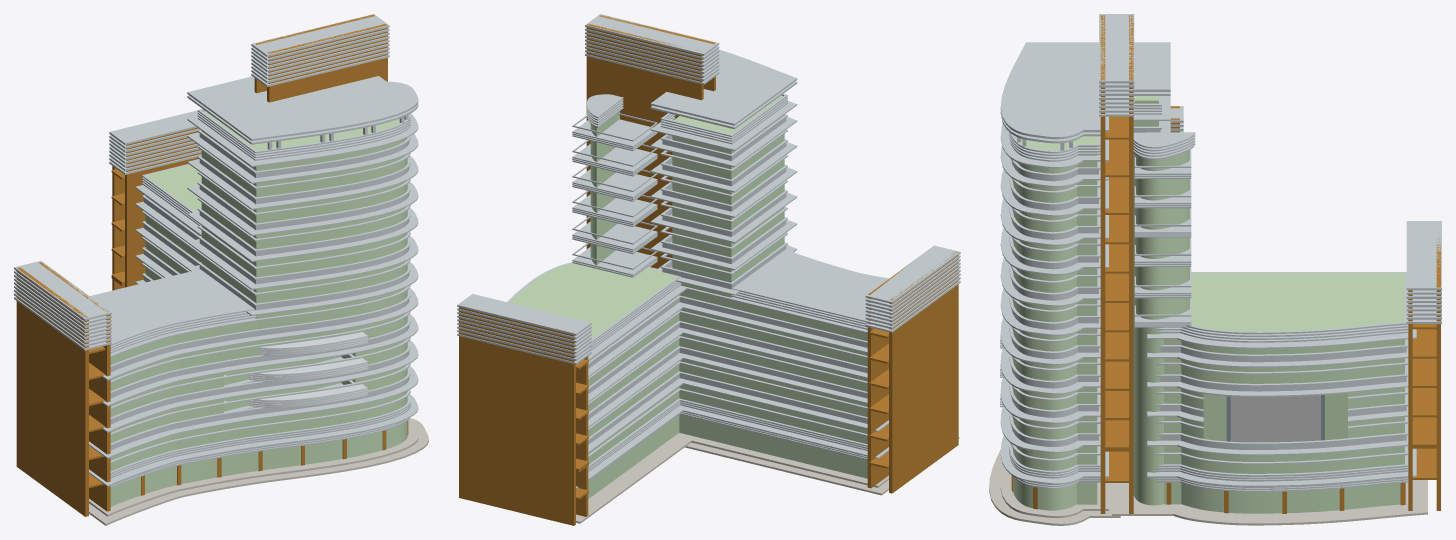
3 views of the same model, side by side, from view 1: azimuth 30°, elevation 25°; view 2: azimuth 150°, elevation 25°; view 3: azimuth 270°, elevation 25° (orthographic). The views are drawn at different scales.
Parts seen in each view (by area): view 1: Shape39, Rectangle250, Shape36, Shape06, Line81, Rectangle02, Rectangle274, road, Shape26, Line18, Line52, Rectangle249 (+56 smaller); view 2: Shape39, Rectangle274, Rectangle250, Rectangle02, Shape06, Line81, Shape36, Line34, Rectangle288, Line74, Rectangle271, Rectangle249 (+38 smaller); view 3: Shape39, Shape36, Rectangle02, Line74, Rectangle09, Line81, Line34, Rectangle288, Rectangle249, Rectangle274, Line40, Line57 (+53 smaller).
Part boxes in pixels (x1,y1,x2,y2): Shape39: (110,111,407,506); Rectangle250: (16,262,110,516); Shape36: (187,76,418,140); Shape06: (90,269,255,345); Line81: (89,337,418,458); Rectangle02: (254,14,387,102); Rectangle274: (112,127,201,290); road: (89,418,428,525); Shape26: (89,422,418,516); Line18: (102,288,418,380); Line52: (89,394,418,486); Rectangle249: (251,14,389,57); Shape39: (509,95,867,498); Rectangle274: (459,304,588,525); Rectangle250: (867,251,958,493); Rectangle02: (586,15,715,268); Shape06: (732,249,888,321); Line81: (679,336,888,431); Shape36: (650,49,797,125); Line34: (588,336,680,444); Rectangle288: (457,294,591,335); Line74: (576,433,695,523); Rectangle271: (865,245,960,303); Rectangle249: (585,14,719,55); Shape39: (1012,96,1404,513); Shape36: (1000,42,1170,139); Rectangle02: (1100,15,1133,513); Line74: (1112,478,1427,525); Rectangle09: (1230,395,1320,442); Line81: (1000,378,1100,452); Line34: (1156,387,1407,446); Rectangle288: (1406,221,1441,290); Rectangle249: (1099,14,1134,83); Rectangle274: (1408,237,1440,510); Line40: (1147,324,1416,348); Line57: (1147,446,1416,486).
Bounding box in the file's own units: 59701 × 62700 × 58813.
